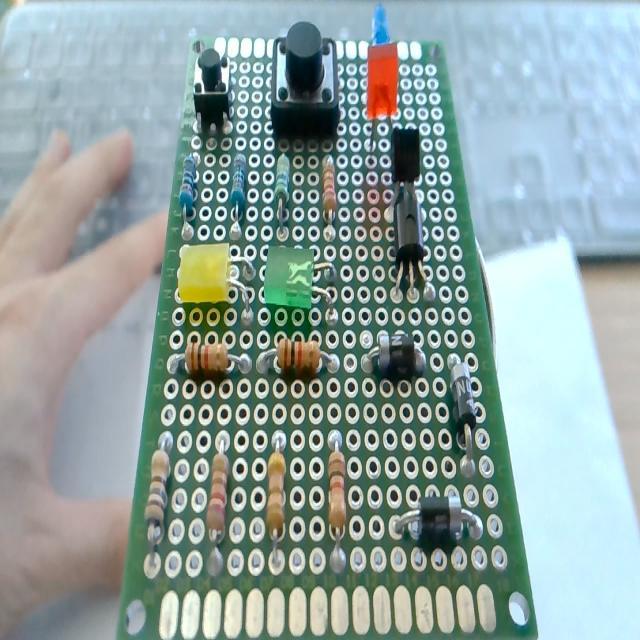diode: (447, 352, 481, 474), (394, 495, 479, 543), (363, 330, 428, 378)
led: (176, 242, 257, 319), (263, 244, 314, 312), (365, 44, 398, 148), (371, 4, 390, 45)
resistor: (144, 428, 174, 560), (206, 433, 231, 574), (265, 430, 288, 561), (258, 340, 336, 377), (173, 341, 250, 378), (327, 434, 347, 573), (274, 152, 290, 233), (230, 152, 247, 218), (179, 155, 197, 215), (322, 153, 336, 227)
switch: (270, 22, 340, 140), (193, 44, 233, 129)
transistor: (387, 200, 435, 304), (390, 125, 420, 210)
